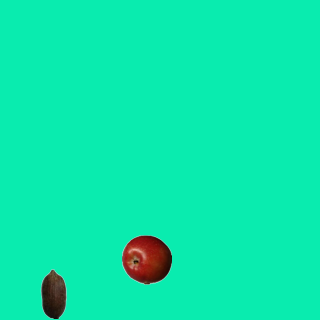Apple Braeburn: (121, 234, 171, 284)
Nut Pecan: (28, 268, 78, 318)
